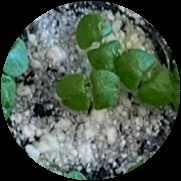Basil: (58, 70, 122, 117), (121, 49, 173, 103), (77, 15, 125, 71)
